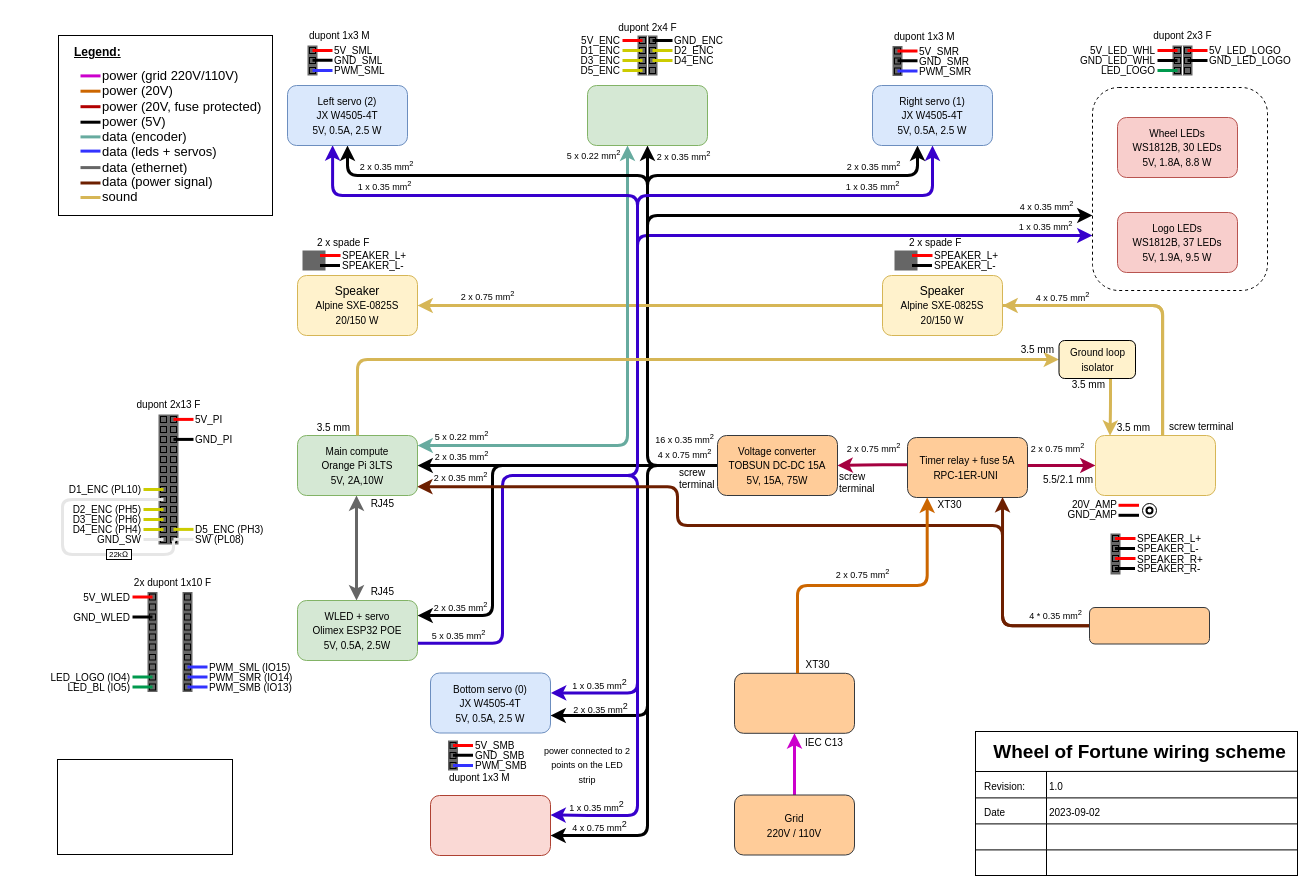
Some shapes in this 1316 by 894 pixel diagram are drawn without their labels. Here are the shapes that lost their labels. From the top down, the centre of each, then its label:
At pixel 647 115: "Line encoder Custom PCB 5V, 0.5A, 2.5 W".
At pixel 1155 465: "Sound amplifier HIFIDIY LIVE C50L 20V, 5A, 100 W".
At pixel 1149 625: "Power switch DPST".
At pixel 794 702: "Power supply ... 20 V 90W".
At pixel 144 806: "Wiring sizes: 0.22 mm 2 - 2 A 0.35 mm 2 - 3A 0.50 mm 2 - 5 A 0.75 mm 2 - 7 A".
At pixel 490 825: "Backlight LEDs WS1812B, 133 LEDs 5V, 6.7A, 34 W".
